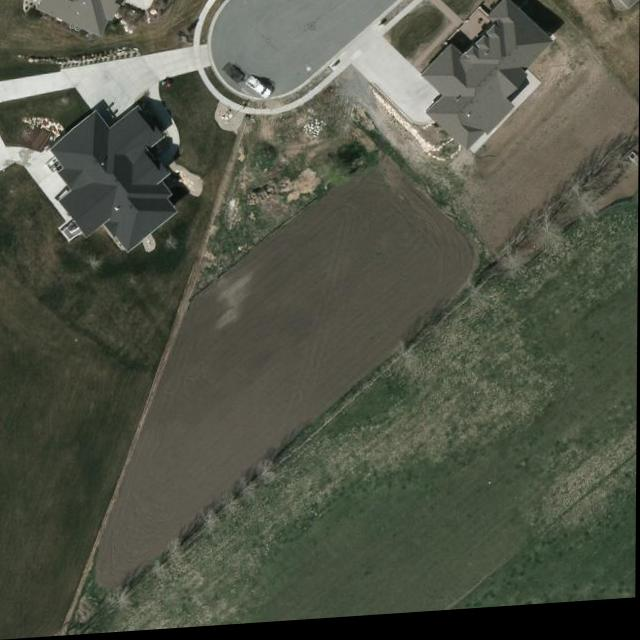vehicle: (242, 78, 276, 105)
